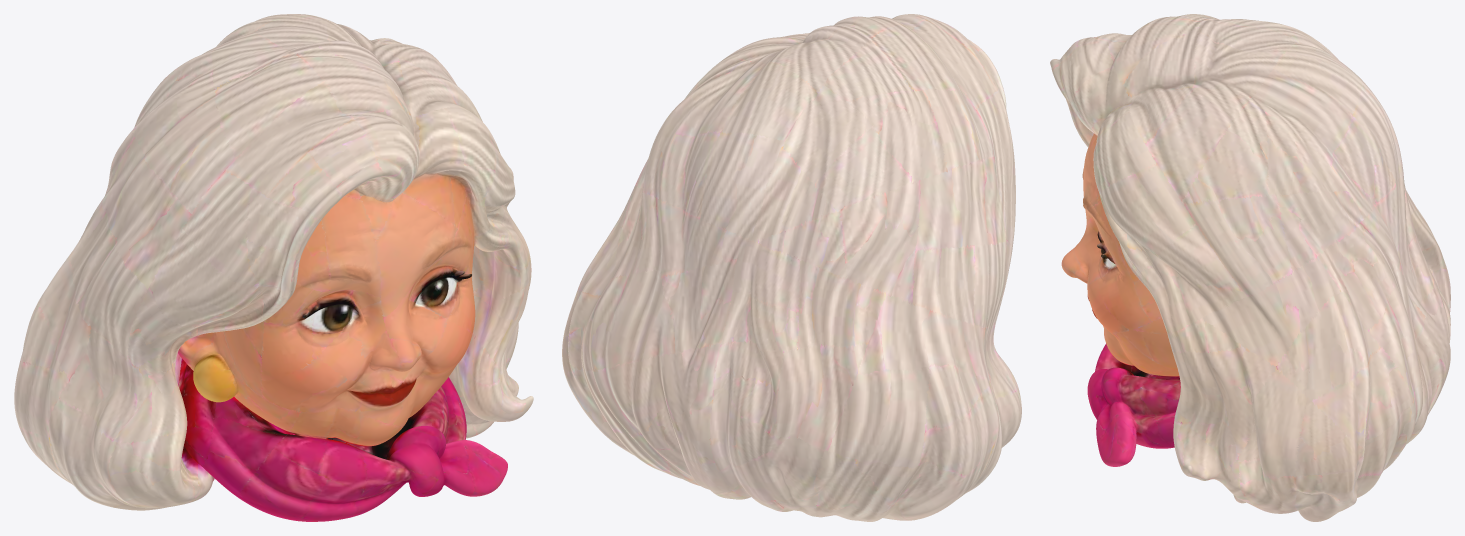
The model's file is planet-06.glb.
The picture shows the model from 3 angles, left to right: view 1: azimuth 30°, elevation 25°; view 2: azimuth 150°, elevation 25°; view 3: azimuth 270°, elevation 25°; orthographic projection. The views are drawn at different scales.
Bounding box in the file's own units: 1.9 × 1.87 × 1.61.
Materials: 1 (1 with a texture image).
